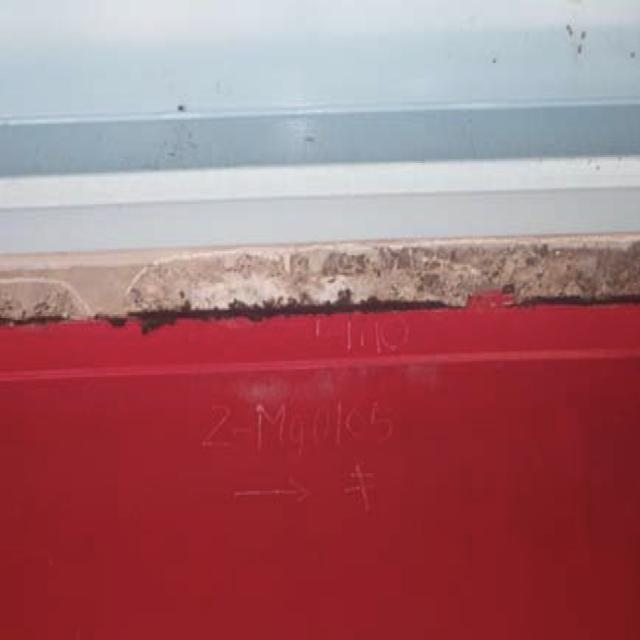corrosion: (134, 273, 627, 338)
